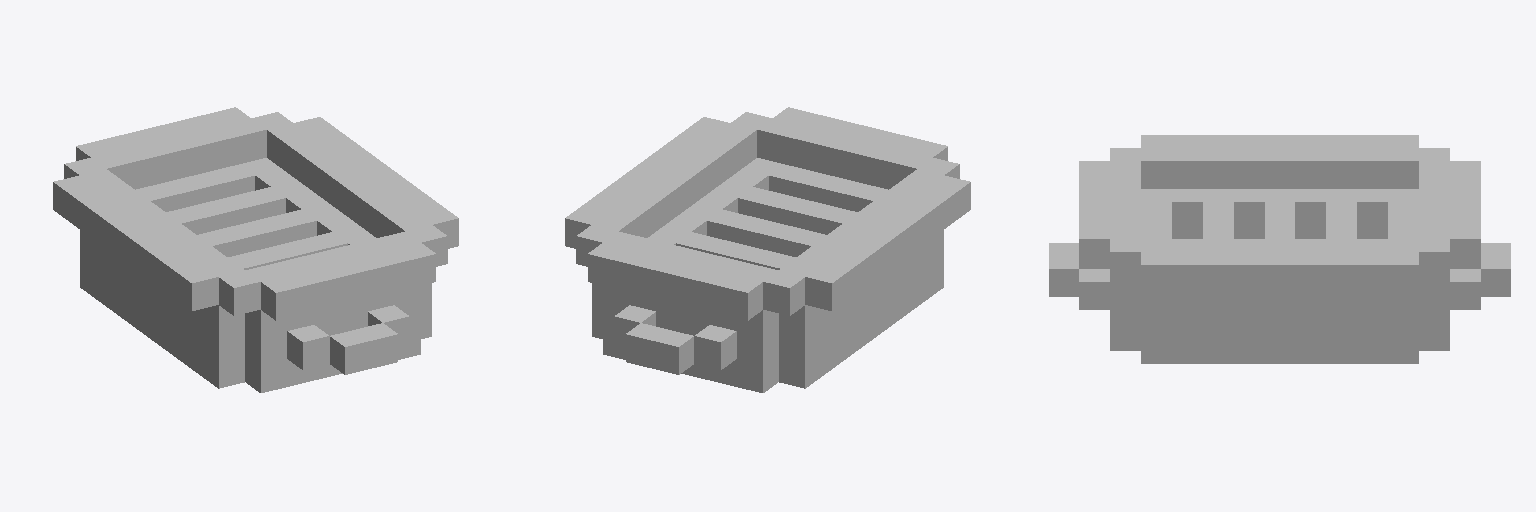
File: hardcook_roasting_pan_gridiron.obj
3 renders of one model, left to right at view 1: azimuth 30°, elevation 25°; view 2: azimuth 150°, elevation 25°; view 3: azimuth 270°, elevation 25°, orthographic.
Visible parts, largest first — view 1: node_0_0_0.006, node_0_0_0.008; view 2: node_0_0_0.006, node_0_0_0.008; view 3: node_0_0_0.006, node_0_0_0.008.
Boxes of the visible parts, x1=… form: node_0_0_0.006: x1=53, y1=107, x2=458, y2=392; node_0_0_0.008: x1=136, y1=158, x2=375, y2=269; node_0_0_0.006: x1=565, y1=107, x2=970, y2=392; node_0_0_0.008: x1=648, y1=158, x2=887, y2=269; node_0_0_0.006: x1=1049, y1=135, x2=1510, y2=363; node_0_0_0.008: x1=1141, y1=189, x2=1418, y2=238.
Size of the model in its own units: 0.625 by 0.25 by 0.9375.